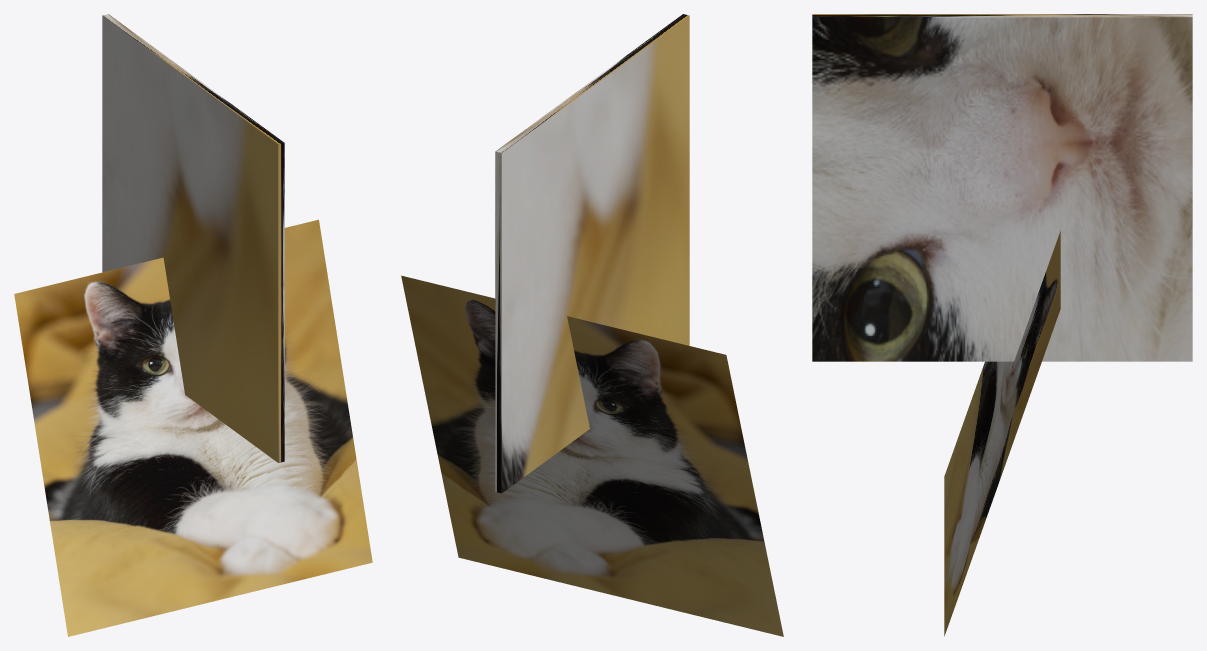
File: planoTeste.gltf
3 views of the same model, side by side, from view 1: azimuth 30°, elevation 25°; view 2: azimuth 150°, elevation 25°; view 3: azimuth 270°, elevation 25° (orthographic). The views are drawn at different scales.
Visible parts, largest first — view 1: Plane, Cube; view 2: Plane, Cube; view 3: Cube, Plane.
Boxes of the visible parts, bbox=[...] form: Plane: bbox=[14, 219, 372, 636]; Cube: bbox=[102, 14, 284, 462]; Plane: bbox=[401, 275, 783, 636]; Cube: bbox=[495, 14, 689, 493]; Cube: bbox=[812, 14, 1192, 361]; Plane: bbox=[944, 231, 1060, 636].
Bounding box in the file's own units: 2 × 3.14 × 2.
1 material, 1 textured.
